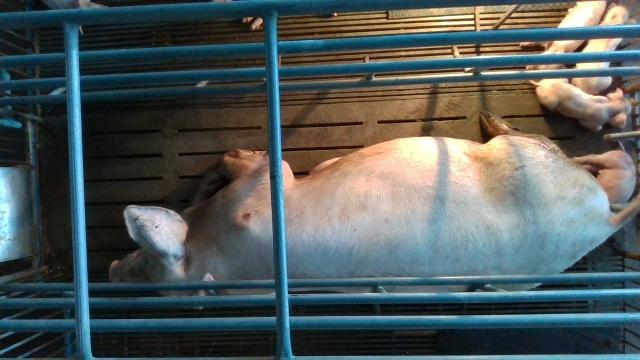piglet: (527, 0, 607, 80), (570, 3, 637, 95), (529, 79, 632, 132), (573, 142, 637, 202)
sow-sleep: (108, 108, 640, 311)
